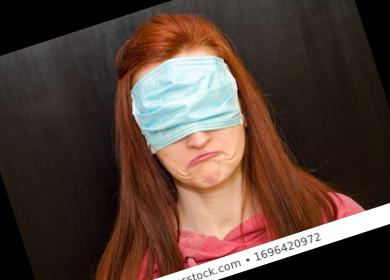mask_weared_incorrect: (127, 50, 261, 198)
